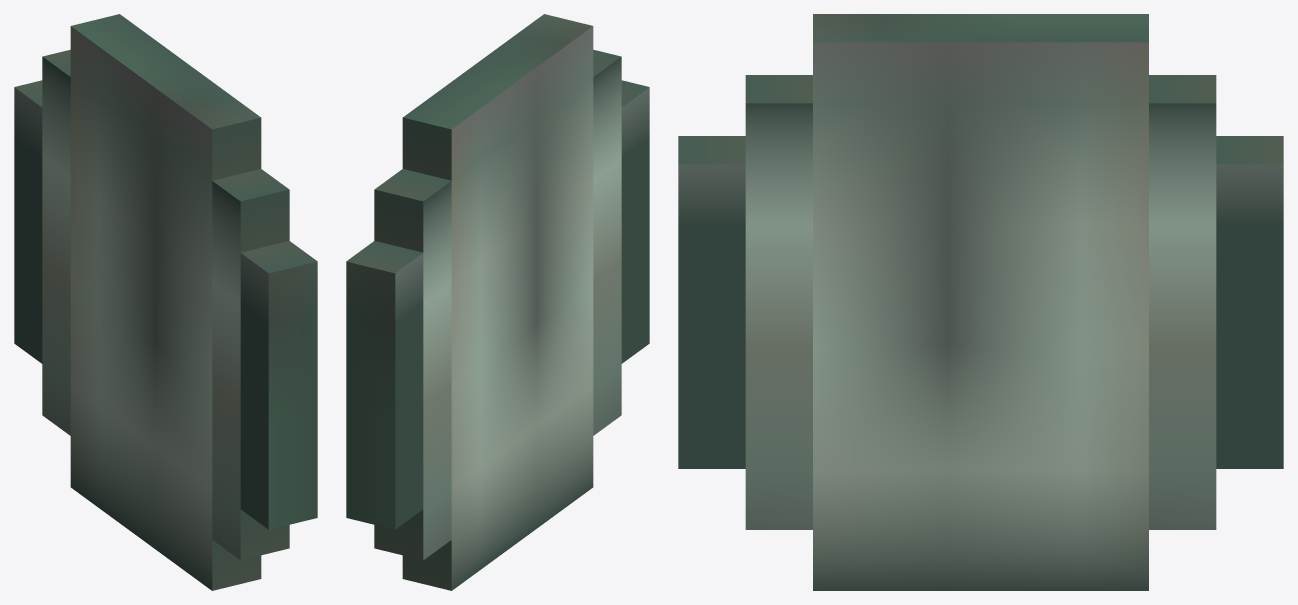
File: ClockDarkGreen_00.obj
3 renders of one model, left to right at view 1: azimuth 30°, elevation 25°; view 2: azimuth 150°, elevation 25°; view 3: azimuth 270°, elevation 25°, orthographic. The views are drawn at different scales.
Parts seen in each view (by area): view 1: ClockDarkGreen_00; view 2: ClockDarkGreen_00; view 3: ClockDarkGreen_00.
Part boxes in pixels (x1,y1,x2,y2): ClockDarkGreen_00: (14,14,317,590); ClockDarkGreen_00: (346,14,649,590); ClockDarkGreen_00: (678,14,1283,590).
Bounding box in the file's own units: 0.05 × 0.45 × 0.45.
